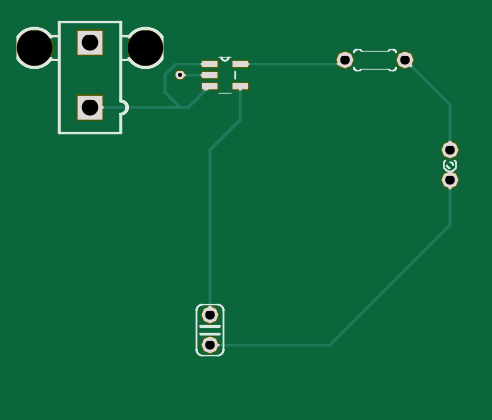LED: (442, 141, 460, 189)
capacitance: (194, 302, 225, 357)
power_supply: (15, 20, 164, 135)
regulation: (200, 56, 248, 93)
resistance: (336, 48, 414, 73)
